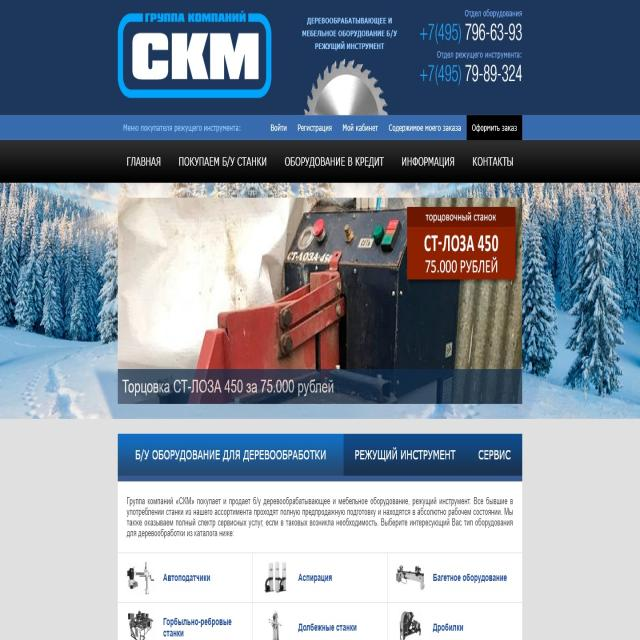button: (430, 558, 511, 594), (174, 147, 268, 178), (281, 149, 388, 175), (159, 558, 221, 596), (160, 611, 237, 639), (384, 114, 463, 140), (293, 613, 362, 640), (398, 148, 458, 175), (292, 564, 341, 595), (468, 114, 521, 140), (120, 150, 168, 176), (470, 152, 523, 174), (431, 613, 468, 640), (340, 116, 379, 140), (295, 120, 335, 140), (268, 118, 291, 138)
heading: (131, 437, 332, 475), (120, 373, 340, 399), (419, 223, 506, 277), (353, 446, 461, 470), (475, 446, 514, 468)
image: (2, 182, 640, 420), (118, 195, 522, 406), (113, 7, 274, 100), (296, 56, 398, 118), (119, 557, 156, 598), (394, 556, 428, 600), (119, 604, 158, 640), (260, 559, 290, 597), (393, 608, 428, 640), (260, 608, 290, 640)
text: (124, 494, 517, 543), (419, 6, 526, 93), (297, 10, 402, 53), (123, 119, 242, 137), (424, 204, 501, 226)
